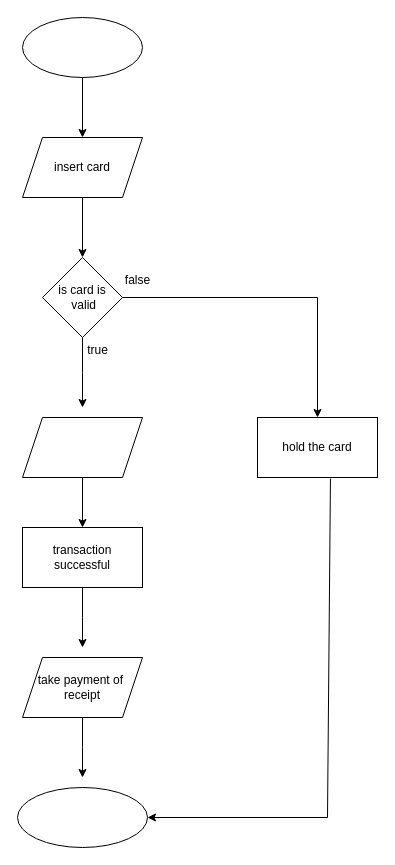
Image size: 395x865. Some labels were removed from this diagram. The shapes that lost their labels are listed below. From the top down, each one's centre as x and y in pixels, then its label:
At point (82, 47): "start".
At point (82, 447): "enter pin".
At point (82, 817): "stop".
